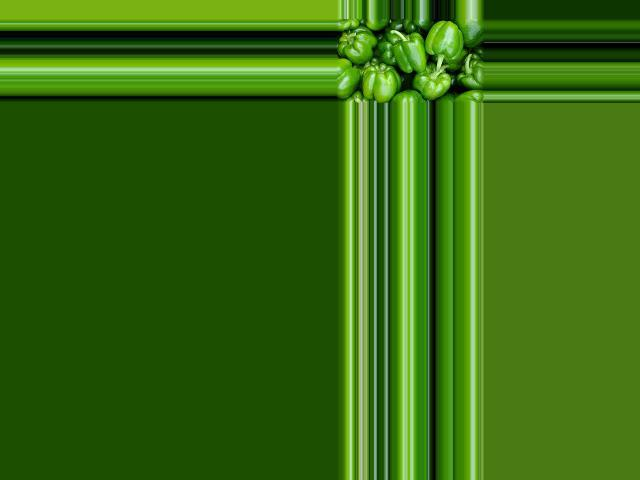bell_pepper: (451, 19, 484, 46)
